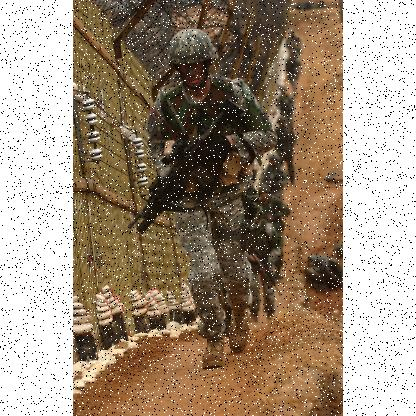gun: (129, 98, 257, 242)
